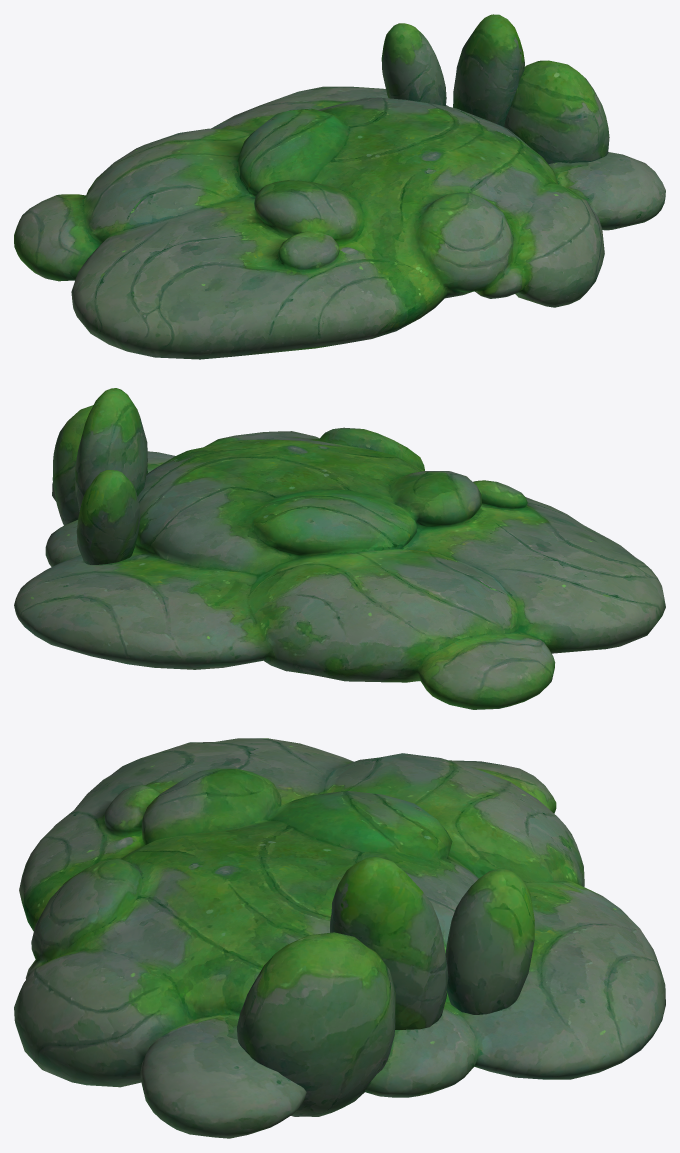
Rendered from Homeworld_Exterior_Xm_Plant_Tree_Slshu_02_Lod0.fbx.
The picture shows the model from 3 angles, top to bottom: view 1: azimuth 30°, elevation 25°; view 2: azimuth 150°, elevation 25°; view 3: azimuth 270°, elevation 25°; orthographic projection. The views are drawn at different scales.
Visible parts, largest first — view 1: Homeworld_Exterior_Xm_Plant_Tree_Slshu_02_Lod0; view 2: Homeworld_Exterior_Xm_Plant_Tree_Slshu_02_Lod0; view 3: Homeworld_Exterior_Xm_Plant_Tree_Slshu_02_Lod0.
Part boxes in pixels (box(x1,y1,x2,y2)): Homeworld_Exterior_Xm_Plant_Tree_Slshu_02_Lod0: box(14, 14, 665, 359); Homeworld_Exterior_Xm_Plant_Tree_Slshu_02_Lod0: box(14, 388, 665, 709); Homeworld_Exterior_Xm_Plant_Tree_Slshu_02_Lod0: box(14, 738, 665, 1138).
Bounding box in the file's own units: 6.56 × 2.05 × 4.88.
Materials: 1 (1 with a texture image).
